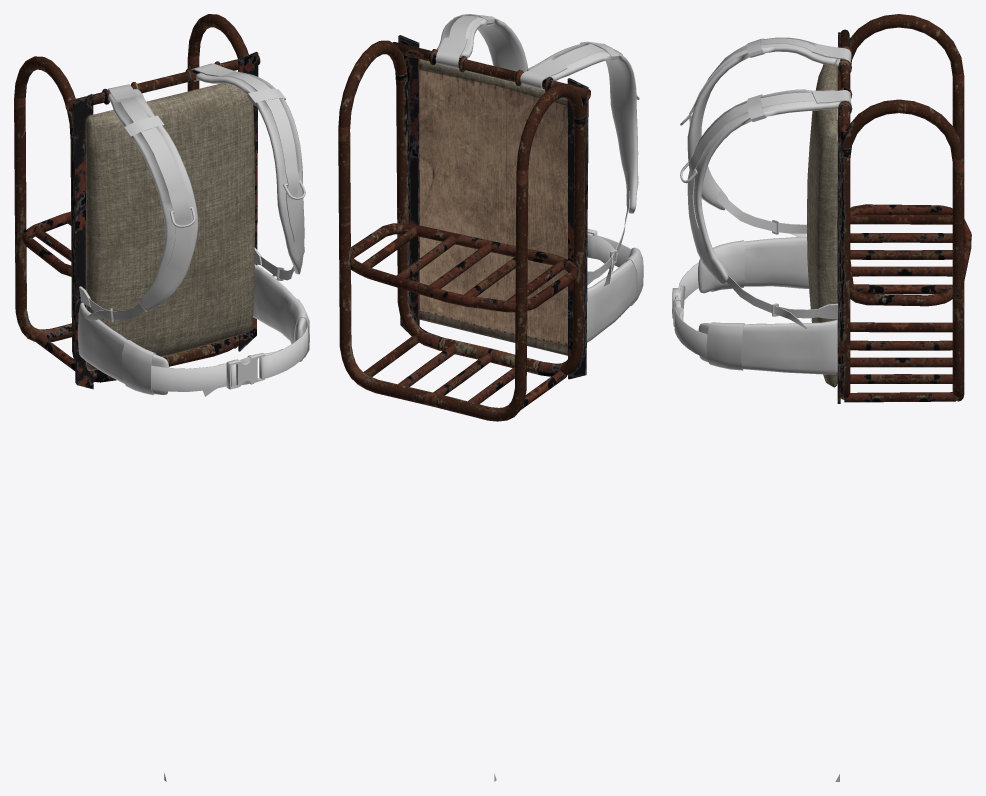
Rendered from CarryRig.fbx.
3 views of the same model, side by side, from view 1: azimuth 30°, elevation 25°; view 2: azimuth 150°, elevation 25°; view 3: azimuth 270°, elevation 25° (orthographic). The views are drawn at different scales.
Visible parts, largest first — view 1: 0.003, Camel_BP.001, 0.006; view 2: 0.003, Camel_BP.001, 0.006; view 3: Camel_BP.001, 0.003, 0.006.
Boxes of the visible parts, x1,y1,x2,y2 form: 0.003: (14, 14, 260, 389); Camel_BP.001: (78, 63, 309, 781); 0.006: (22, 211, 237, 382); 0.003: (338, 35, 590, 421); Camel_BP.001: (435, 14, 643, 781); 0.006: (351, 223, 578, 410); Camel_BP.001: (672, 37, 851, 781); 0.003: (807, 14, 964, 403); 0.006: (837, 204, 971, 402).
Size of the model in its own units: 44.42 by 155 by 58.2.
